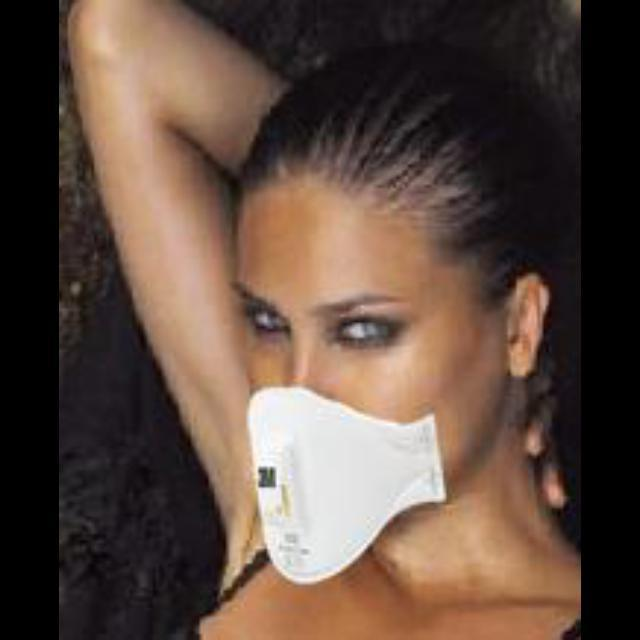suspicion: (216, 126, 536, 578)
